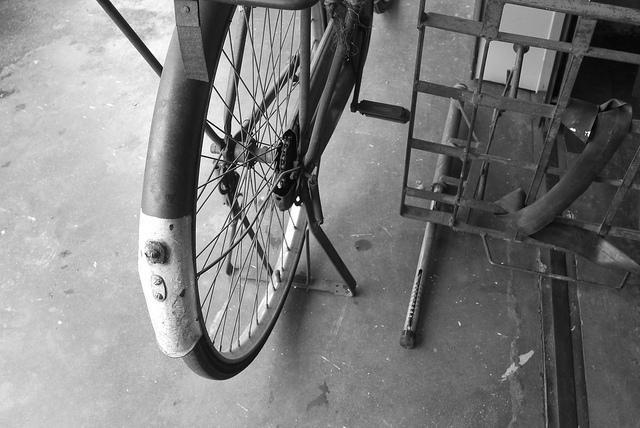bicycle: (140, 2, 416, 385)
